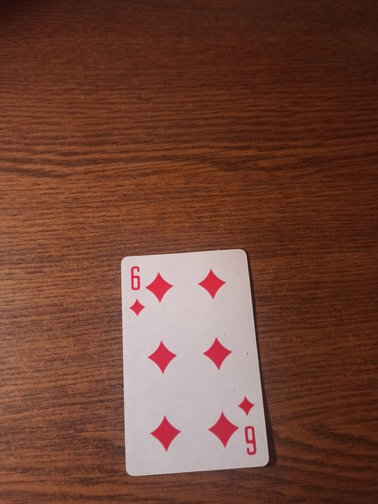sixdiamonds: (117, 254, 270, 476)
